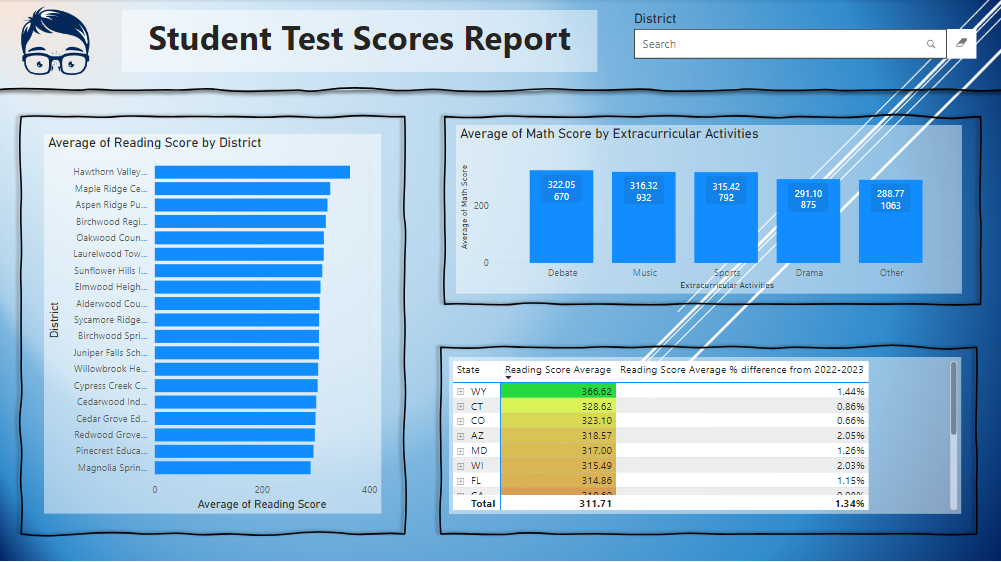

This screenshot's page, from the dashboard's own definition file:
{"tool":"powerbi","page":{"name":"Report Summary","canvas":[1280,720],"ordinal":0},"visuals":[{"type":"barChart","fields":{"Category":["Test Scores.District"],"Y":["Avg(Test Scores.Reading Score)"]},"box":[55.8,171.9,429.8,484.4],"z":0},{"type":"columnChart","fields":{"Category":["Students.Extracurricular Activities"],"Y":["Avg(Test Scores.Math Score)"]},"box":[580.8,160.3,644.6,214.9],"z":1000},{"type":"pivotTable","fields":{"Rows":["Test Scores.State Hierarchy.State","Test Scores.State Hierarchy.District"],"Values":["Test Scores.Reading Score Average","Test Scores.Reading Score Average % difference from 2022-2023"]},"box":[572.6,456.5,652.8,199.8],"z":2000},{"type":"textbox","box":[155.6,13.9,606.3,79],"z":4000},{"type":"textFilter25A4896A83E0487089E2B90C9AE57C8A","fields":{"field":["Test Scores.District"]},"box":[803.8,13.9,447.2,79],"z":5000},{"type":"image","box":[17.8,0,104.5,105.8],"z":5001}]}

Visuals, with their boxes in screenshot pixels (x1, y1, x2, y2), scaled from the page's 1280x720 canvas onto the 1001x562 screenshot:
barChart - Test Scores.District x Avg(Test Scores.Reading Score): (x1=44, y1=134, x2=380, y2=512)
columnChart - Students.Extracurricular Activities x Avg(Test Scores.Math Score): (x1=454, y1=125, x2=958, y2=293)
pivotTable - Test Scores.State Hierarchy.State x Test Scores.State Hierarchy.District: (x1=448, y1=356, x2=958, y2=512)
textbox: (x1=122, y1=11, x2=596, y2=73)
textFilter25A4896A83E0487089E2B90C9AE57C8A - Test Scores.District: (x1=629, y1=11, x2=978, y2=73)
image: (x1=14, y1=0, x2=96, y2=83)
